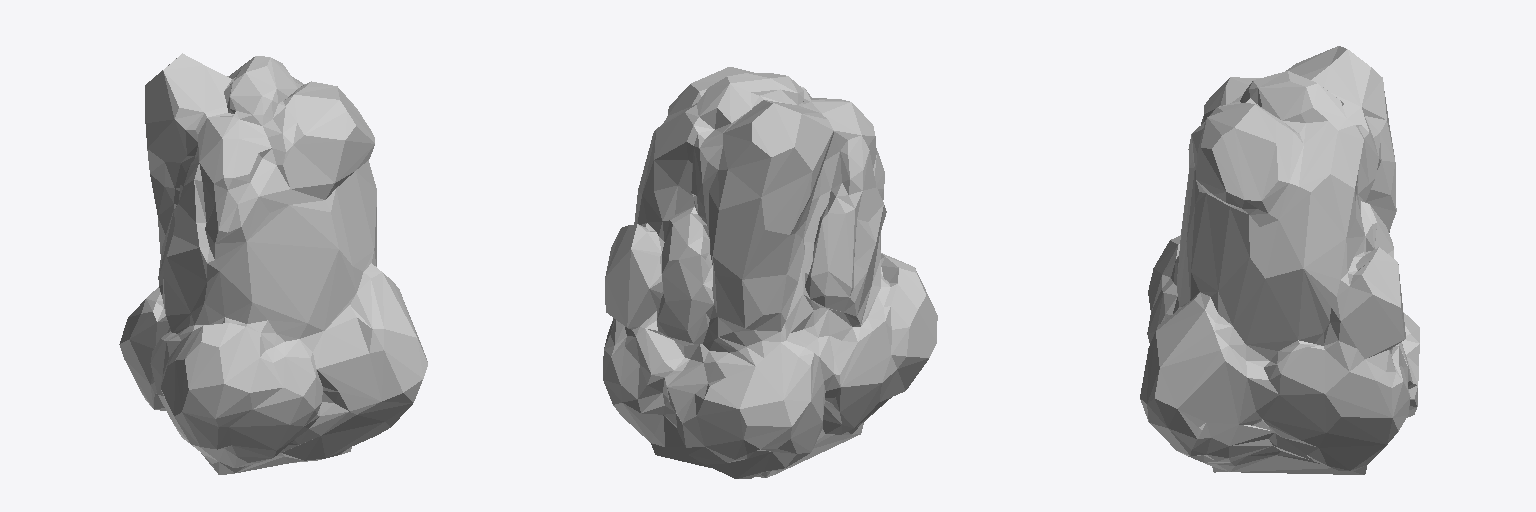
File: stone_wall_1.obj
3 renders of one model, left to right at view 1: azimuth 30°, elevation 25°; view 2: azimuth 150°, elevation 25°; view 3: azimuth 270°, elevation 25°, orthographic.
Visible parts, largest first — view 1: Wall1_Lo_Cube.012; view 2: Wall1_Lo_Cube.012; view 3: Wall1_Lo_Cube.012.
Boxes of the visible parts, x1,y1,x2,y2 form: Wall1_Lo_Cube.012: [119, 53, 427, 474]; Wall1_Lo_Cube.012: [603, 67, 937, 478]; Wall1_Lo_Cube.012: [1140, 46, 1419, 474].
Size of the model in its own units: 2.67 by 3.93 by 2.66.